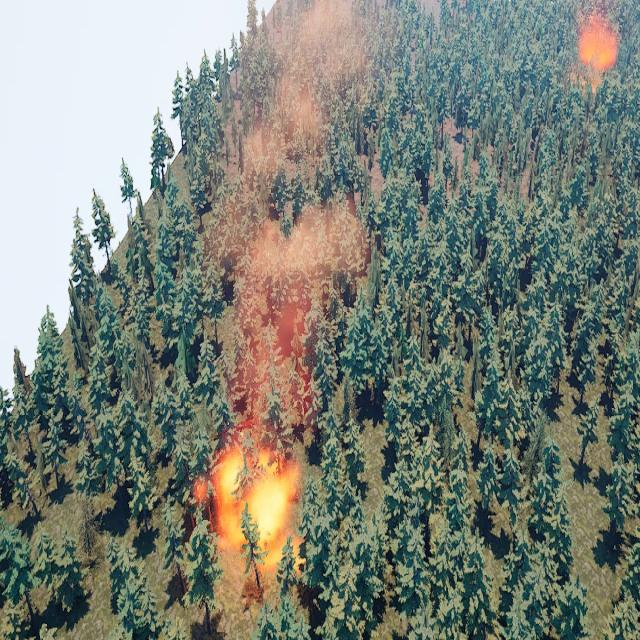fire: (213, 445, 296, 553)
smoke: (203, 0, 379, 439), (576, 3, 620, 73)
